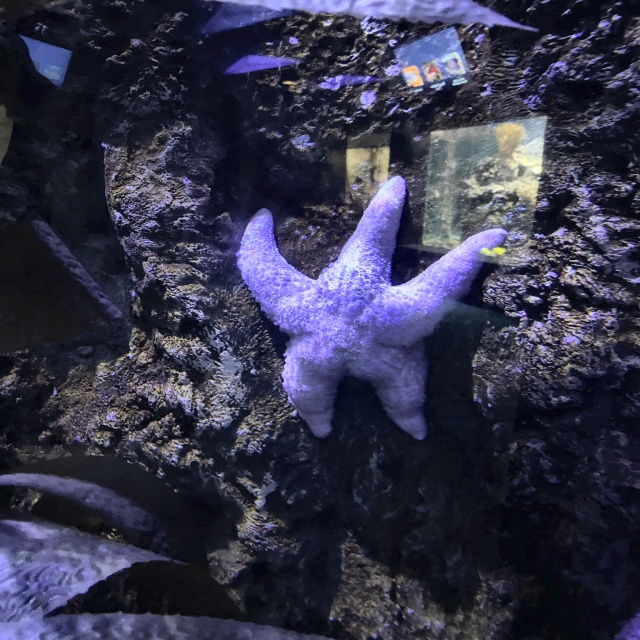starfish: (229, 184, 508, 441)
